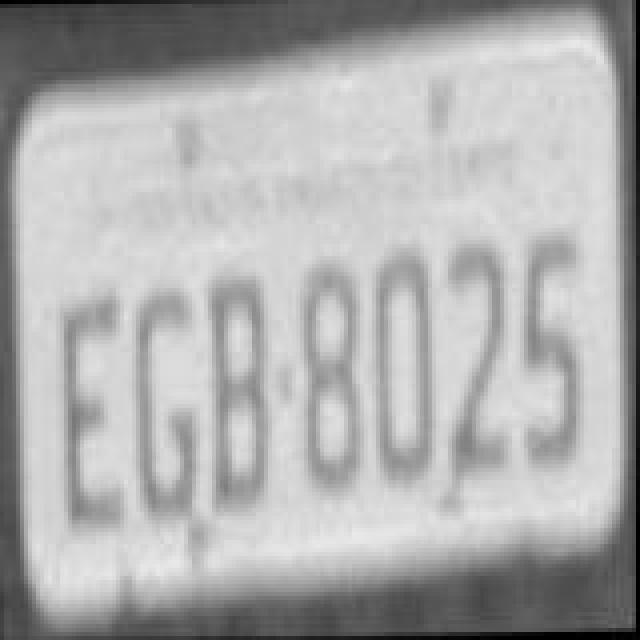2: (442, 238, 514, 490)
5: (518, 222, 582, 466)
8: (300, 254, 368, 494)
B: (208, 274, 272, 510)
E: (62, 286, 130, 538)
G: (132, 284, 204, 528)
O: (368, 244, 436, 484)
